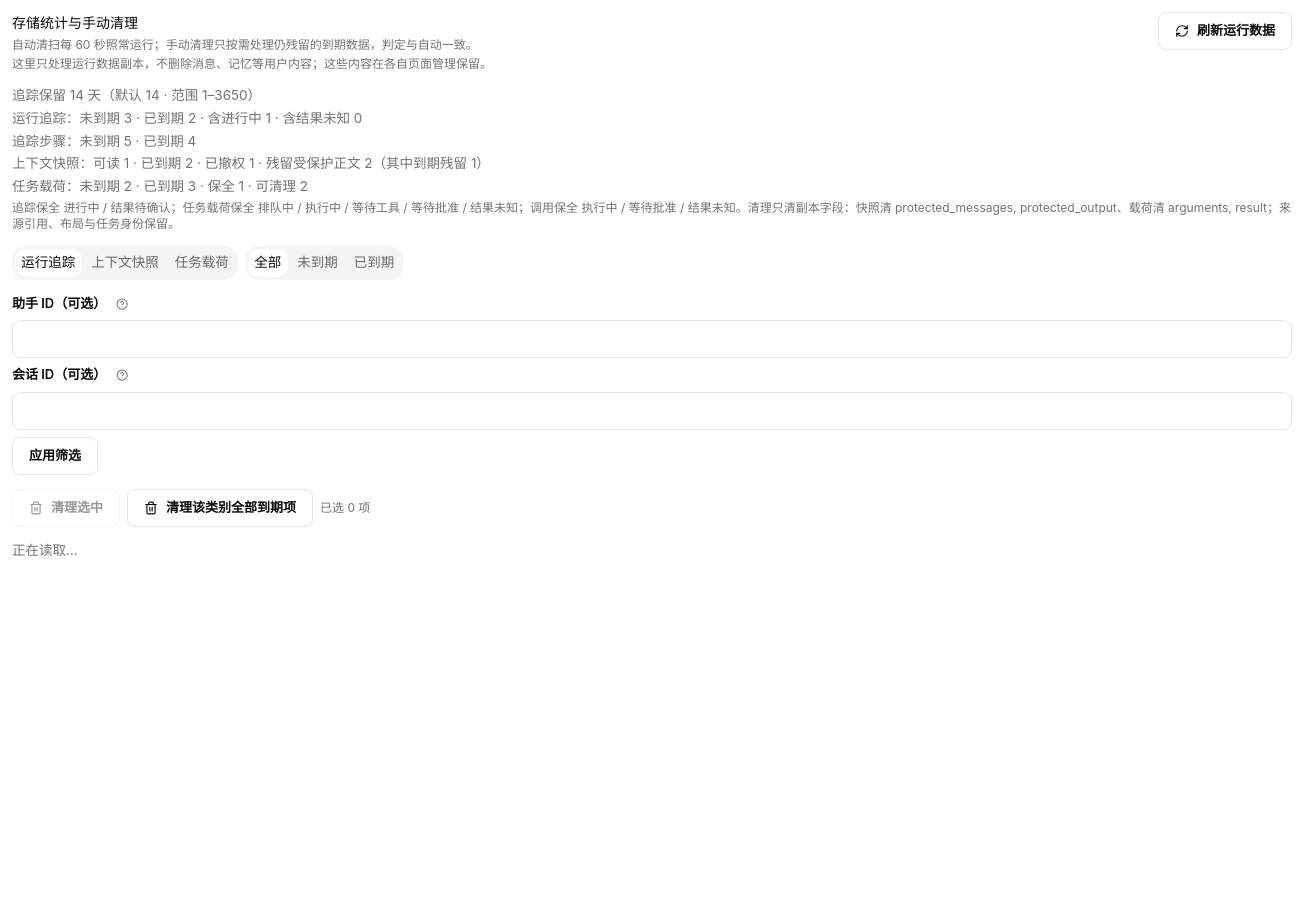
runtime storage panel › does not let a superseded page land after the category changed
Press the mouse on the tab "上下文快照" at x=125, y=263, box [85,249,165,277]
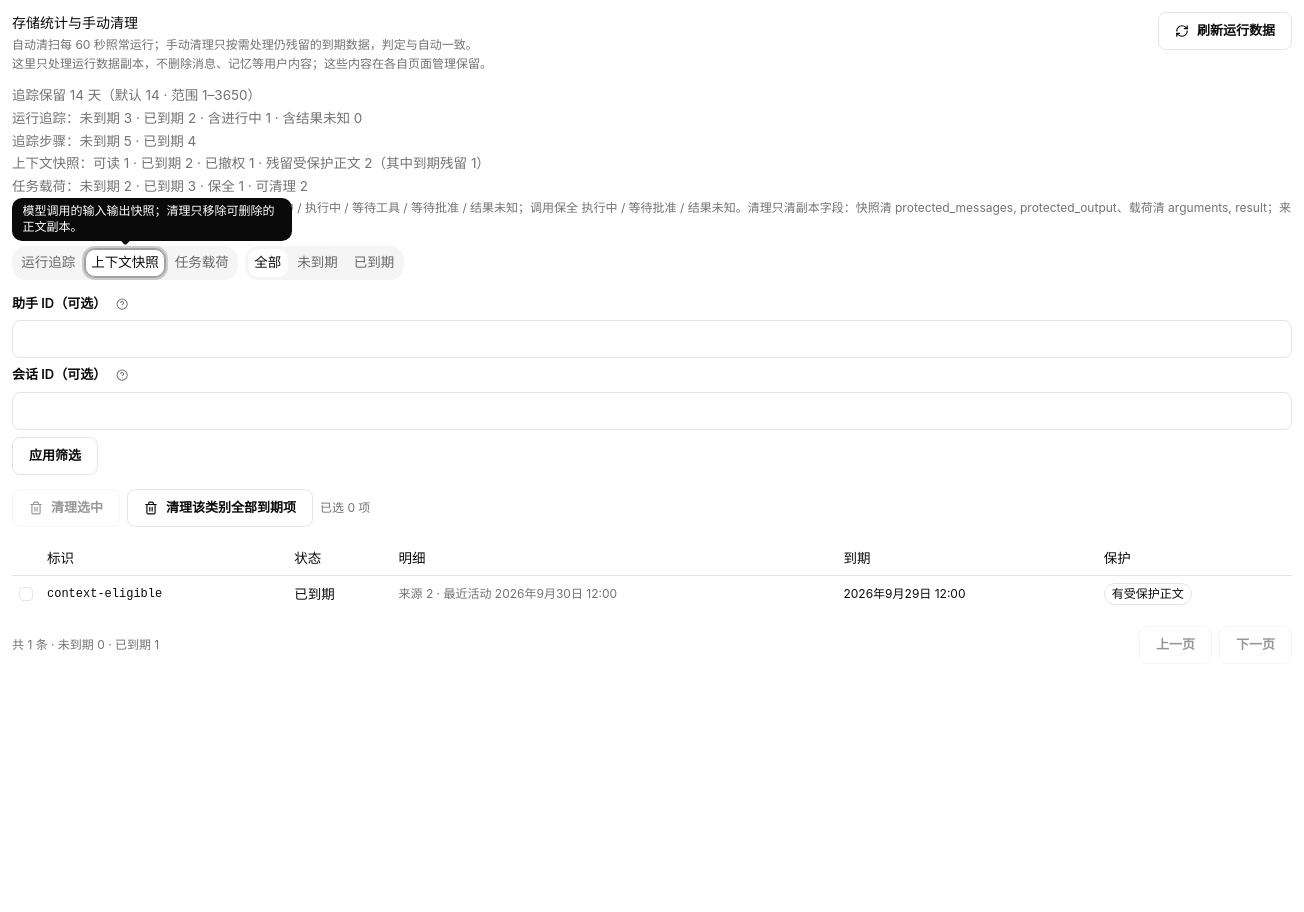
Expected: the text "context-eligible" is shown, [40,576,287,612]
